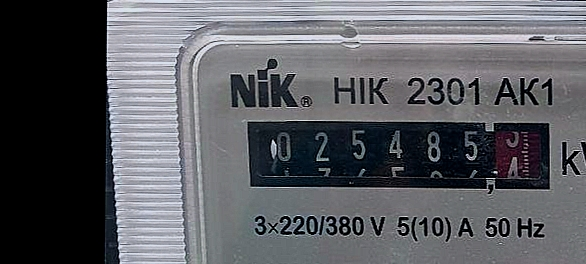0: (273, 128, 294, 163)
2: (312, 129, 332, 164)
4: (385, 126, 406, 161), (504, 154, 523, 182)
5: (460, 127, 481, 164), (348, 126, 368, 161)
8: (424, 127, 444, 165)
screen: (238, 112, 560, 201)
